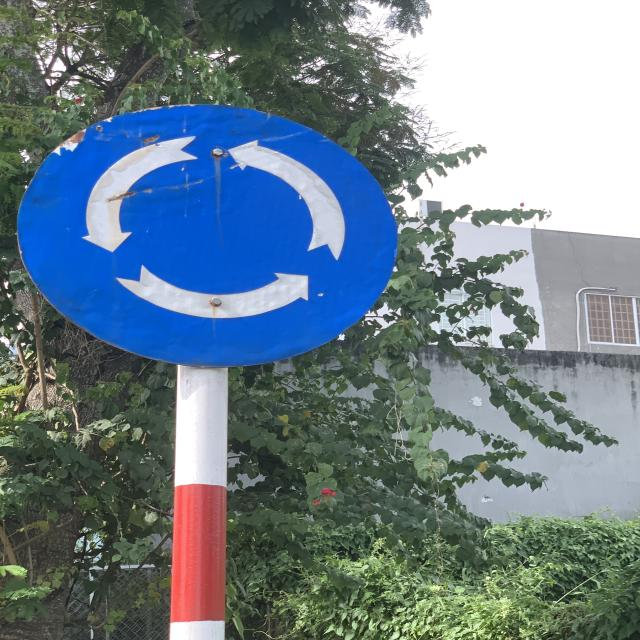Xe_Bus: (21, 103, 401, 367)
